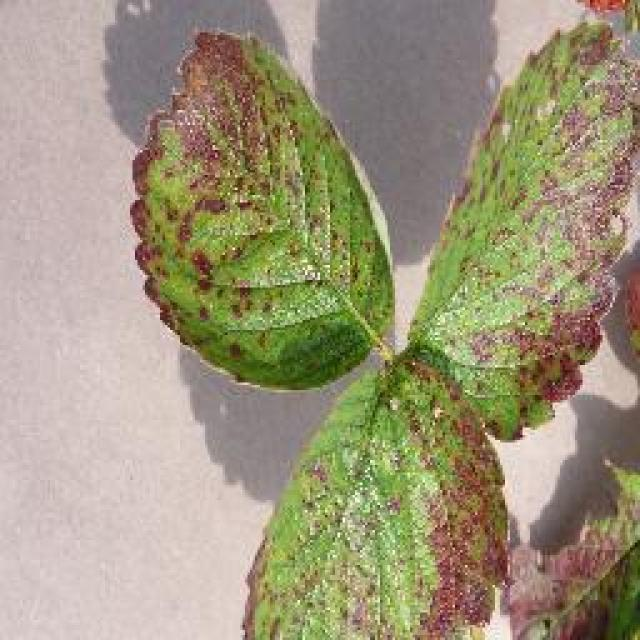Strawberry leaf scorch: (178, 87, 355, 313)
